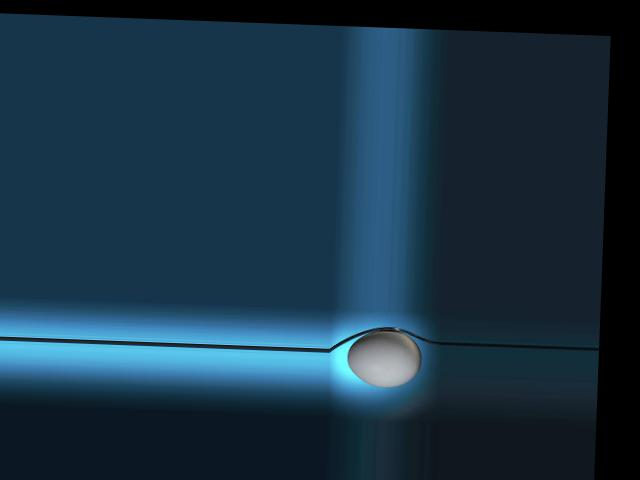egg: (346, 329, 422, 387)
